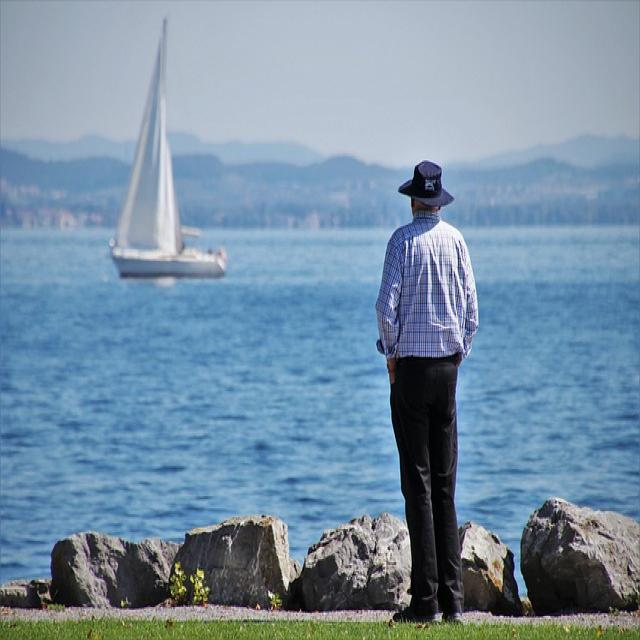Real human 2: (364, 149, 501, 634)
